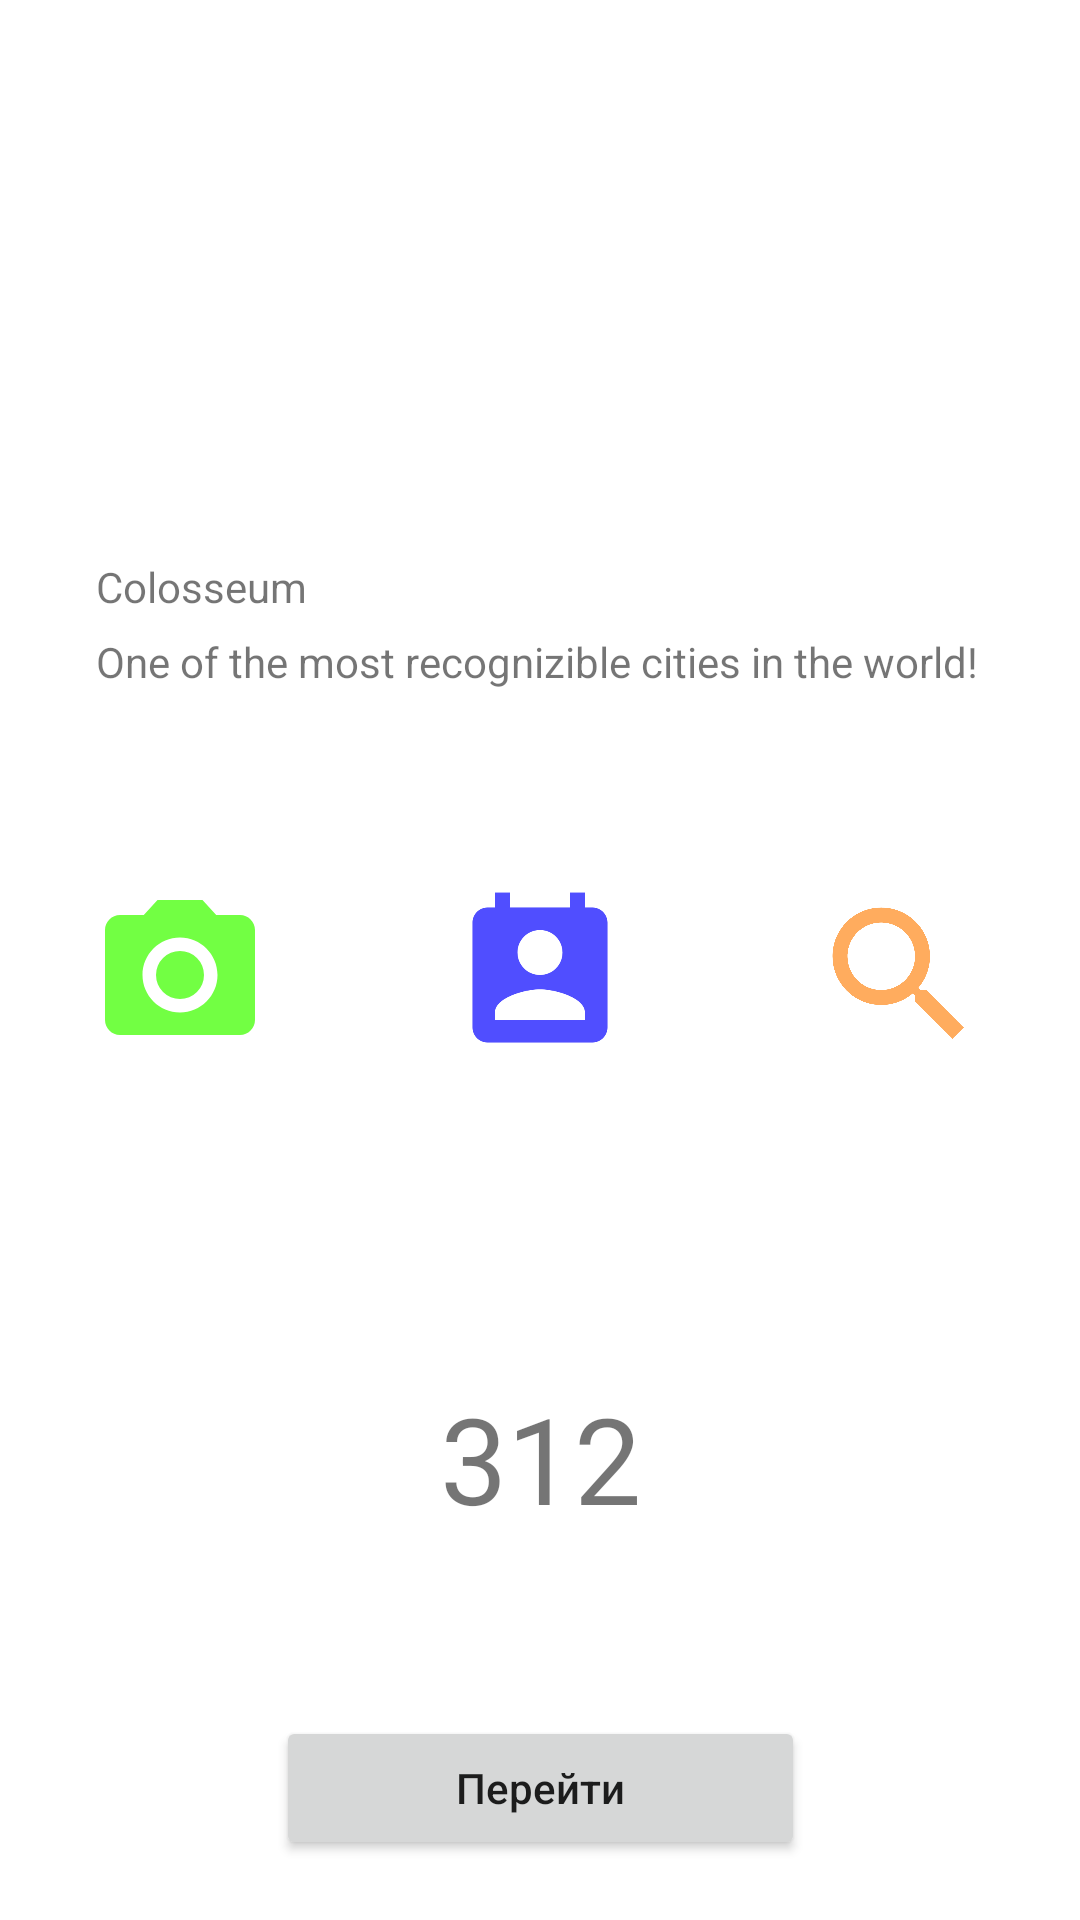

Point at icon controls on the screen. Image size 1080*1920, points as [x,y].
bsearch: [898,973]
camera: [180,967]
contact: [540,967]
